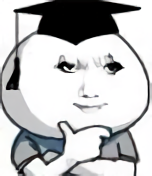dragon: (54, 54, 127, 116)
